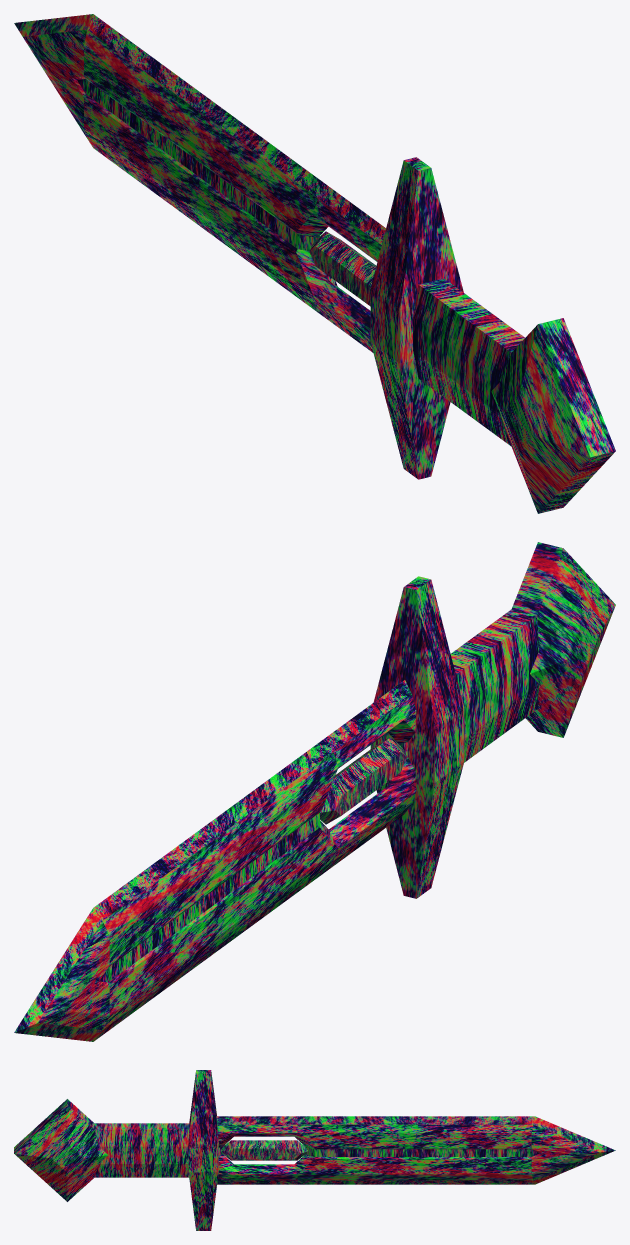
File: factorial_sword.obj
The picture shows the model from 3 angles, top to bottom: view 1: azimuth 30°, elevation 25°; view 2: azimuth 150°, elevation 25°; view 3: azimuth 270°, elevation 25°; orthographic projection. The views are drawn at different scales.
Visible parts, largest first — view 1: blade_core, hilt, handle_bauble, handle, blade_edge, trace_bottom, blade_gem; view 2: blade_core, hilt, blade_edge, handle_bauble, handle, trace_bottom, blade_gem; view 3: blade_core, blade_edge, handle_bauble, handle, hilt, trace_bottom, blade_gem.
Part boxes in pixels (<box>): blade_core: <box>23,29,381,346</box>; hilt: <box>370,157,463,479</box>; handle_bauble: <box>491,318,615,513</box>; handle: <box>413,278,524,445</box>; blade_edge: <box>14,14,385,352</box>; trace_bottom: <box>77,79,319,251</box>; blade_gem: <box>309,231,376,306</box>; blade_core: <box>38,695,416,1029</box>; hilt: <box>370,576,464,898</box>; blade_edge: <box>14,680,411,1041</box>; handle_bauble: <box>512,542,615,737</box>; handle: <box>450,609,538,762</box>; trace_bottom: <box>99,812,319,982</box>; blade_gem: <box>320,737,406,824</box>; blade_core: <box>217,1124,598,1180</box>; blade_edge: <box>216,1116,615,1184</box>; handle_bauble: <box>14,1099,108,1201</box>; handle: <box>94,1123,189,1177</box>; hilt: <box>188,1070,218,1230</box>; trace_bottom: <box>305,1146,539,1156</box>; blade_gem: <box>220,1140,307,1160</box>.
Bounding box in the file's own units: 0.1 × 0.46 × 1.59.
